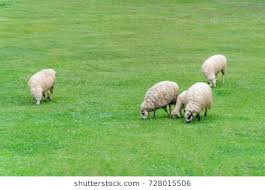sheep: (139, 79, 172, 122), (183, 80, 215, 124), (27, 67, 59, 104), (200, 53, 230, 88)
